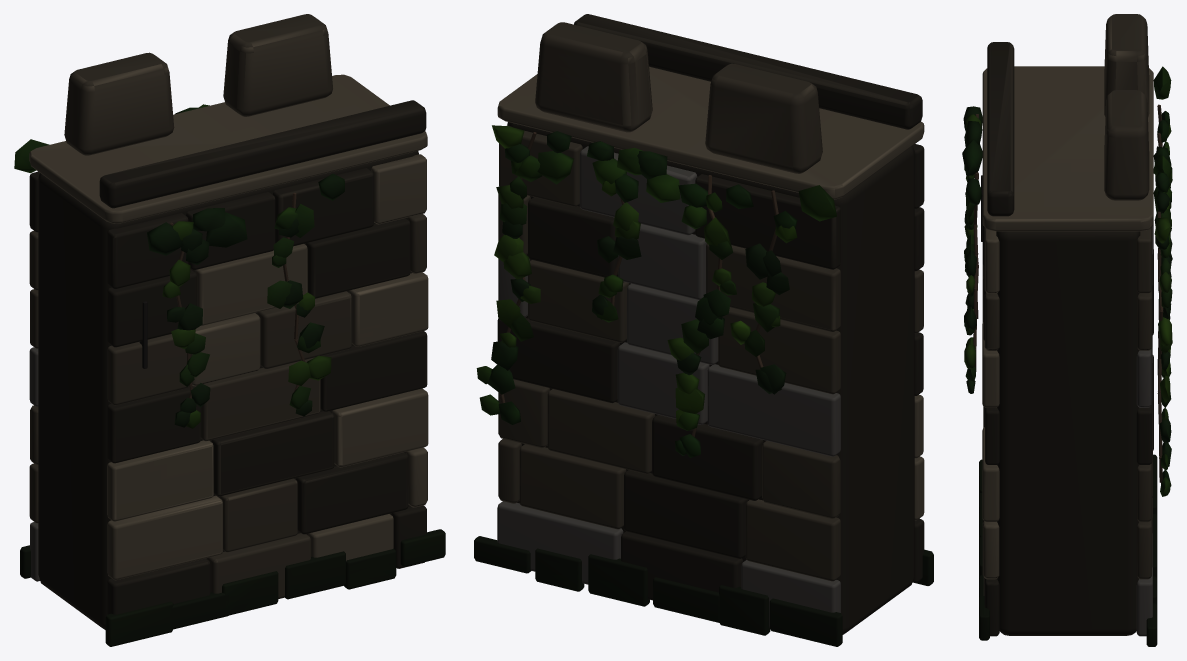
Rendered from Muralha2Hera.fbx.
The picture shows the model from 3 angles, left to right: view 1: azimuth 30°, elevation 25°; view 2: azimuth 150°, elevation 25°; view 3: azimuth 270°, elevation 25°; orthographic projection. The views are drawn at different scales.
Parts seen in each view (by area): view 1: Muralha2Hera, Hera; view 2: Muralha2Hera, Hera; view 3: Muralha2Hera, Hera.
Part boxes in pixels (x1,y1,x2,y2): Muralha2Hera: (29,14,428,629); Hera: (14,104,445,646); Muralha2Hera: (497,14,924,634); Hera: (474,125,933,646); Muralha2Hera: (981,14,1153,636); Hera: (962,66,1172,646).
Size of the model in its own units: 4.32 by 6.1 by 2.34.
